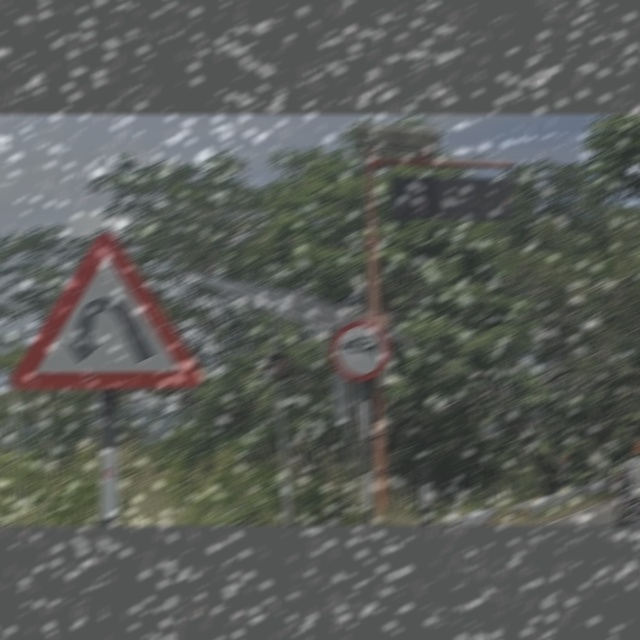Left_Hair_Pin_Bend: (13, 232, 208, 394)
